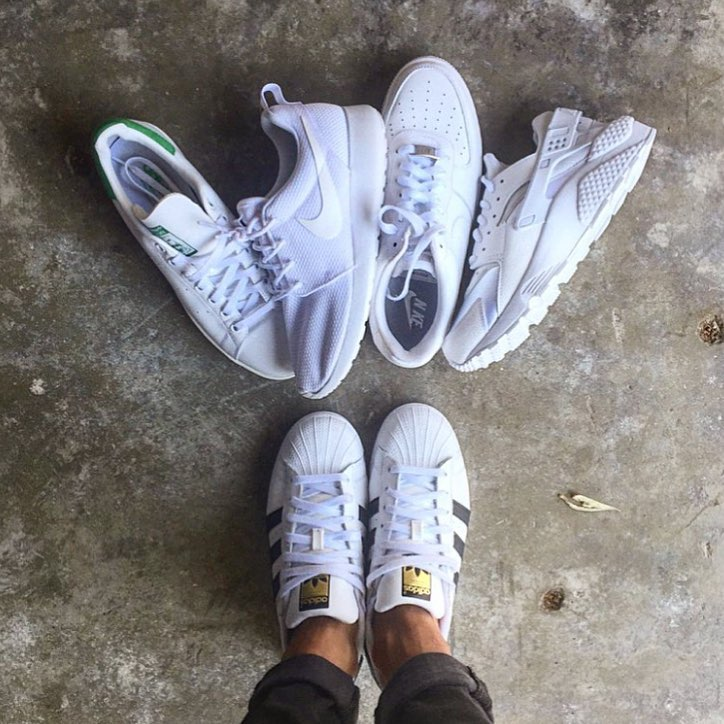sneaker: (248, 393, 384, 693), (350, 391, 484, 695)
